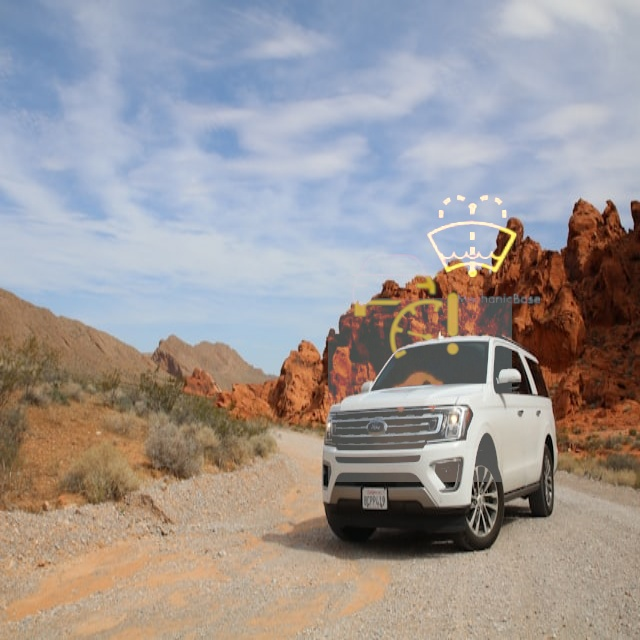symbol: (328, 298, 512, 482), (327, 231, 478, 382), (399, 164, 546, 311)
